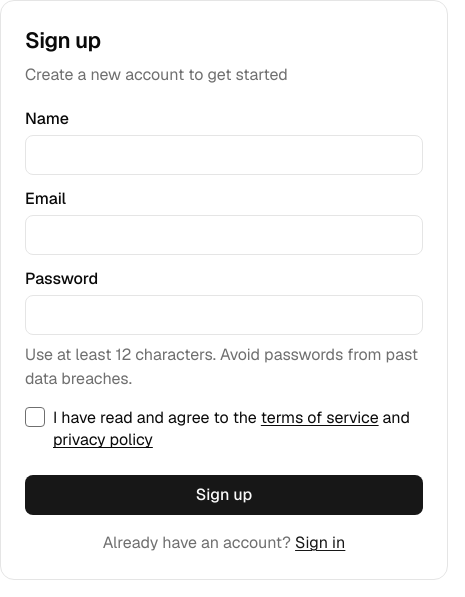
Test: SignUpForm › returnUrl functionality › navigates to default / on successful sign up without returnUrl
In the field labelled "Name": (224, 155) [25,135,423,175], type "Test User"
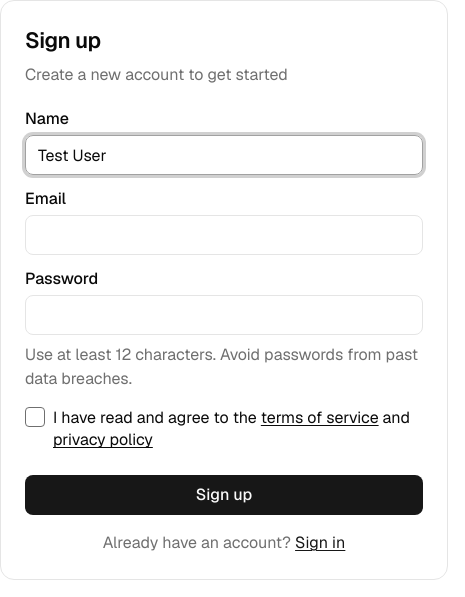
In the field labelled "Email": (224, 235) [25,215,423,255], type "test@example.com"
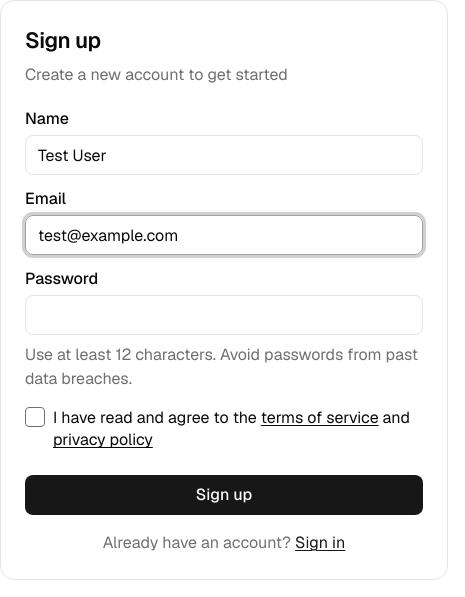
In the password field labelled "Password": (224, 315) [25,295,423,335], type "password123"
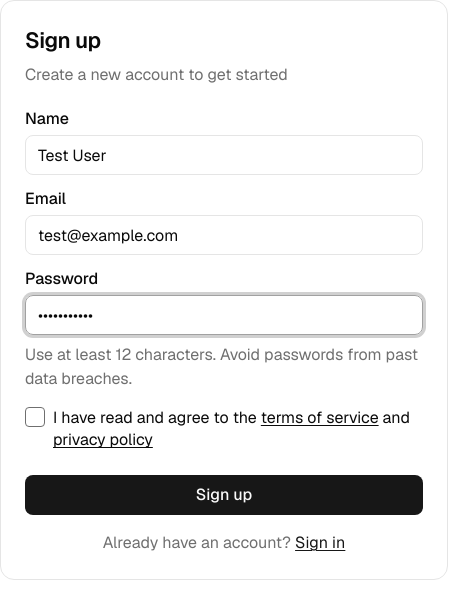
Click the checkbox named "terms of service": (35, 417) [25,407,45,427]
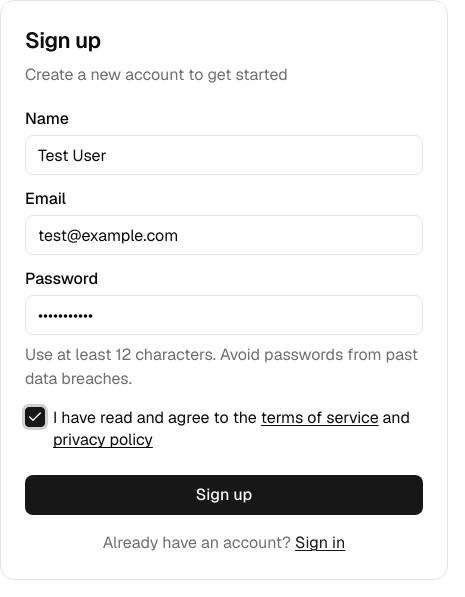
Click the button "Sign up": (224, 495) [25,475,423,515]
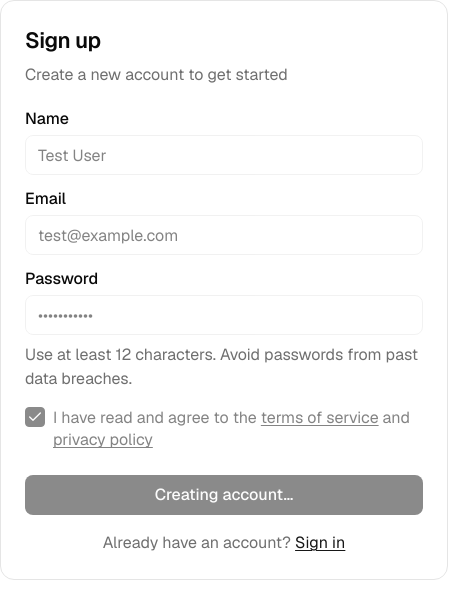
Result: the button "Creating account…" is disabled at [25,475,423,515]
Result: the field labelled "Email" is disabled at [25,215,423,255]
